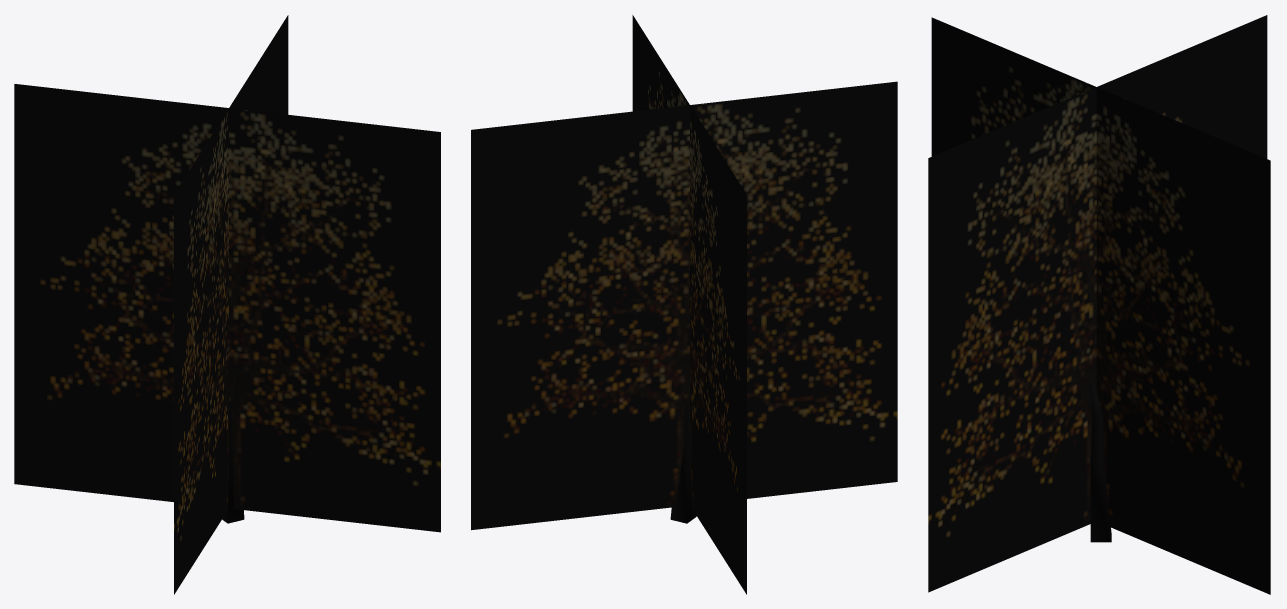
The model's file is tree009.glb.
3 views of the same model, side by side, from view 1: azimuth 30°, elevation 25°; view 2: azimuth 150°, elevation 25°; view 3: azimuth 270°, elevation 25° (orthographic). The views are drawn at different scales.
Visible parts, largest first — view 1: tree009, tree009_trunk; view 2: tree009, tree009_trunk; view 3: tree009, tree009_trunk.
Part boxes in pixels (x1,y1,x2,y2): tree009: (14, 15, 440, 594); tree009_trunk: (222, 357, 244, 523); tree009: (471, 15, 897, 594); tree009_trunk: (670, 399, 696, 523); tree009: (928, 15, 1270, 594); tree009_trunk: (1090, 373, 1111, 542).
Bounding box in the file's own units: 2.17 × 3.1 × 2.17.
Materials: 1 (1 with a texture image).
